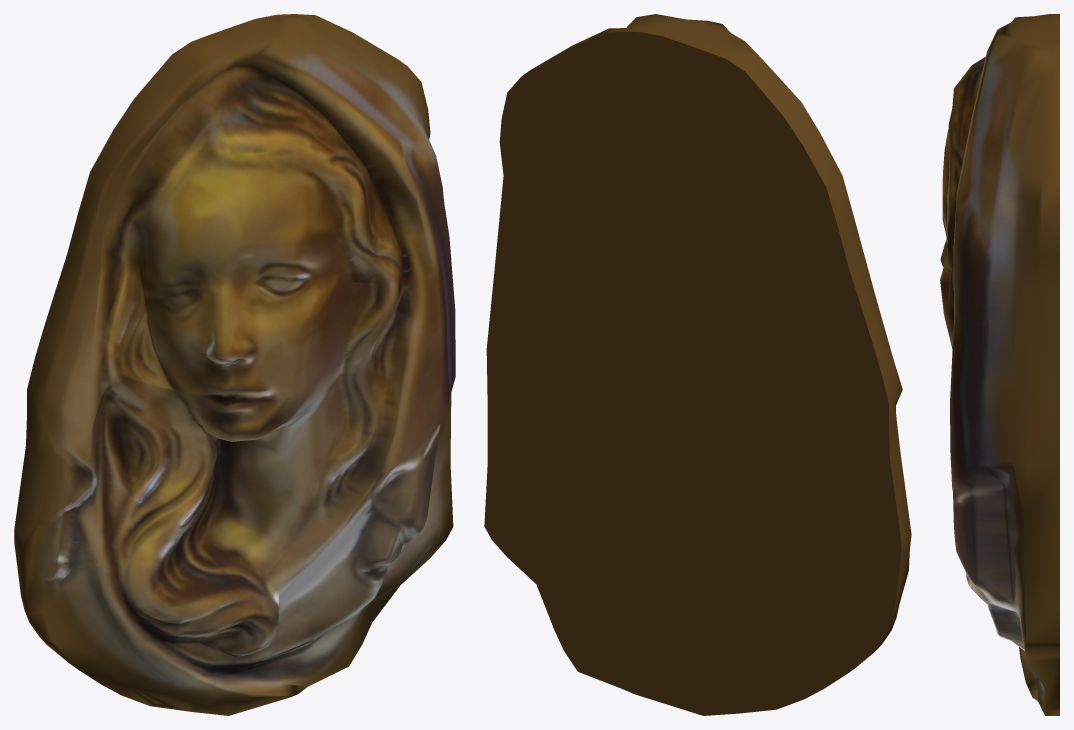
Rendered from Art2098.fbx.
3 views of the same model, side by side, from view 1: azimuth 30°, elevation 25°; view 2: azimuth 150°, elevation 25°; view 3: azimuth 270°, elevation 25° (orthographic). The views are drawn at different scales.
Parts seen in each view (by area): view 1: Mesh_2; view 2: Mesh_2; view 3: Mesh_2.
Boxes of the visible parts, left/top/right/bottom form: Mesh_2: left=14, top=14, right=455, bottom=715; Mesh_2: left=484, top=14, right=911, bottom=715; Mesh_2: left=940, top=14, right=1059, bottom=715.
Size of the model in its own units: 12.75 by 19.68 by 3.27.
Materials: 1 (1 with a texture image).
